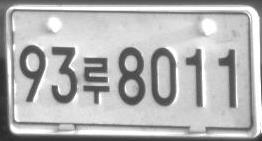0: (149, 47, 177, 107)
1: (183, 47, 212, 107), (215, 48, 244, 108)
3: (50, 46, 78, 104)
8: (117, 45, 146, 106)
9: (18, 44, 46, 102)
루: (82, 56, 110, 105)
